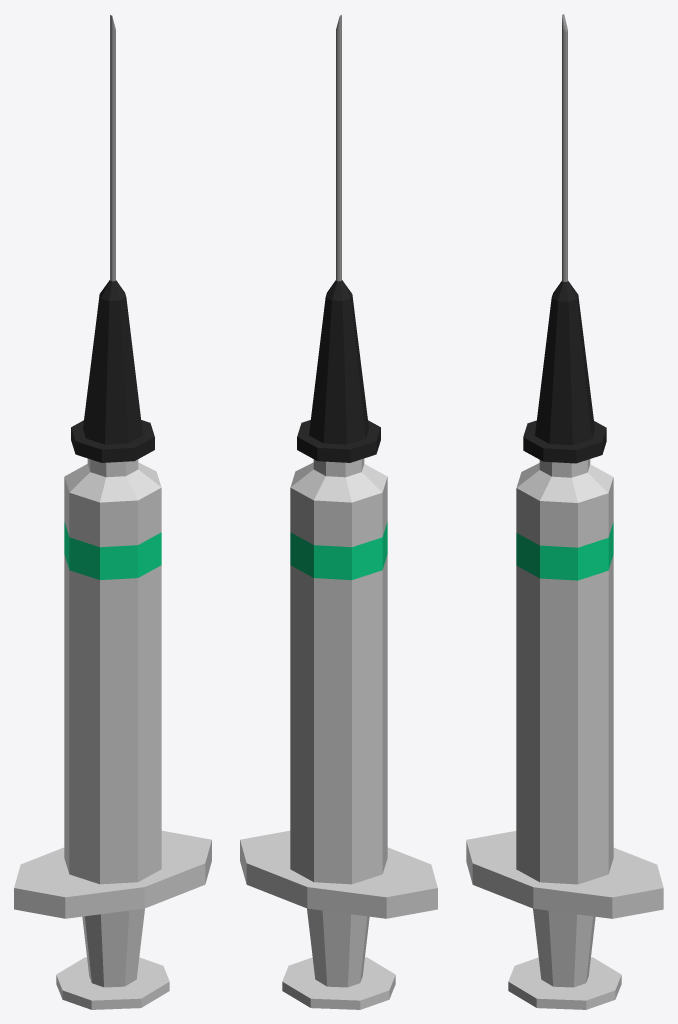
Rendered from Syringe.fbx.
The picture shows the model from 3 angles, left to right: view 1: azimuth 30°, elevation 25°; view 2: azimuth 150°, elevation 25°; view 3: azimuth 330°, elevation 25°; orthographic projection.
Parts seen in each view (by area): view 1: Cylinder; view 2: Cylinder; view 3: Cylinder.
Part boxes in pixels (bbox=[...]): Cylinder: bbox=[14, 15, 211, 1009]; Cylinder: bbox=[240, 15, 437, 1009]; Cylinder: bbox=[466, 14, 663, 1009].
Bounding box in the file's own units: 6 × 28.22 × 3.33.
